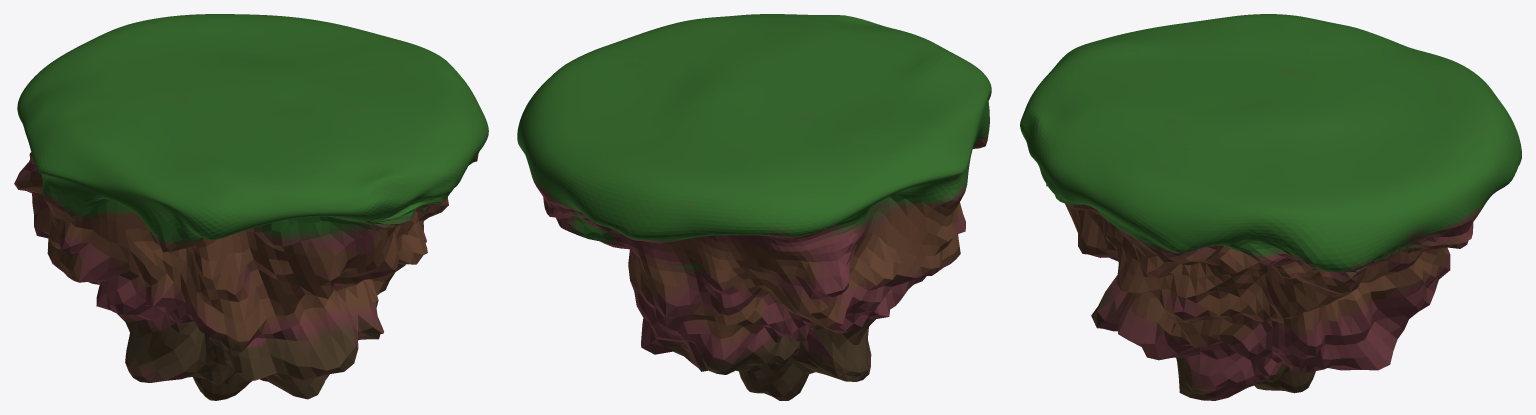
File: land.fbx
The picture shows the model from 3 angles, left to right: view 1: azimuth 30°, elevation 25°; view 2: azimuth 150°, elevation 25°; view 3: azimuth 270°, elevation 25°; orthographic projection. The views are drawn at different scales.
Parts seen in each view (by area): view 1: Icosphere.001; view 2: Icosphere.001; view 3: Icosphere.001.
Boxes of the visible parts, x1=… form: Icosphere.001: x1=14, y1=14, x2=488, y2=400; Icosphere.001: x1=517, y1=14, x2=991, y2=400; Icosphere.001: x1=1020, y1=14, x2=1521, y2=400.
Size of the model in its own units: 219 by 150 by 221.
1 material, 1 textured.
